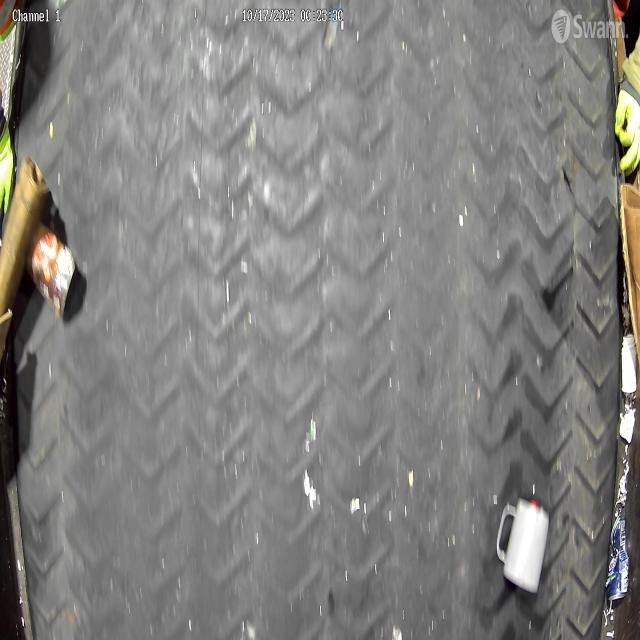can: (29, 224, 80, 322), (606, 514, 630, 601)
